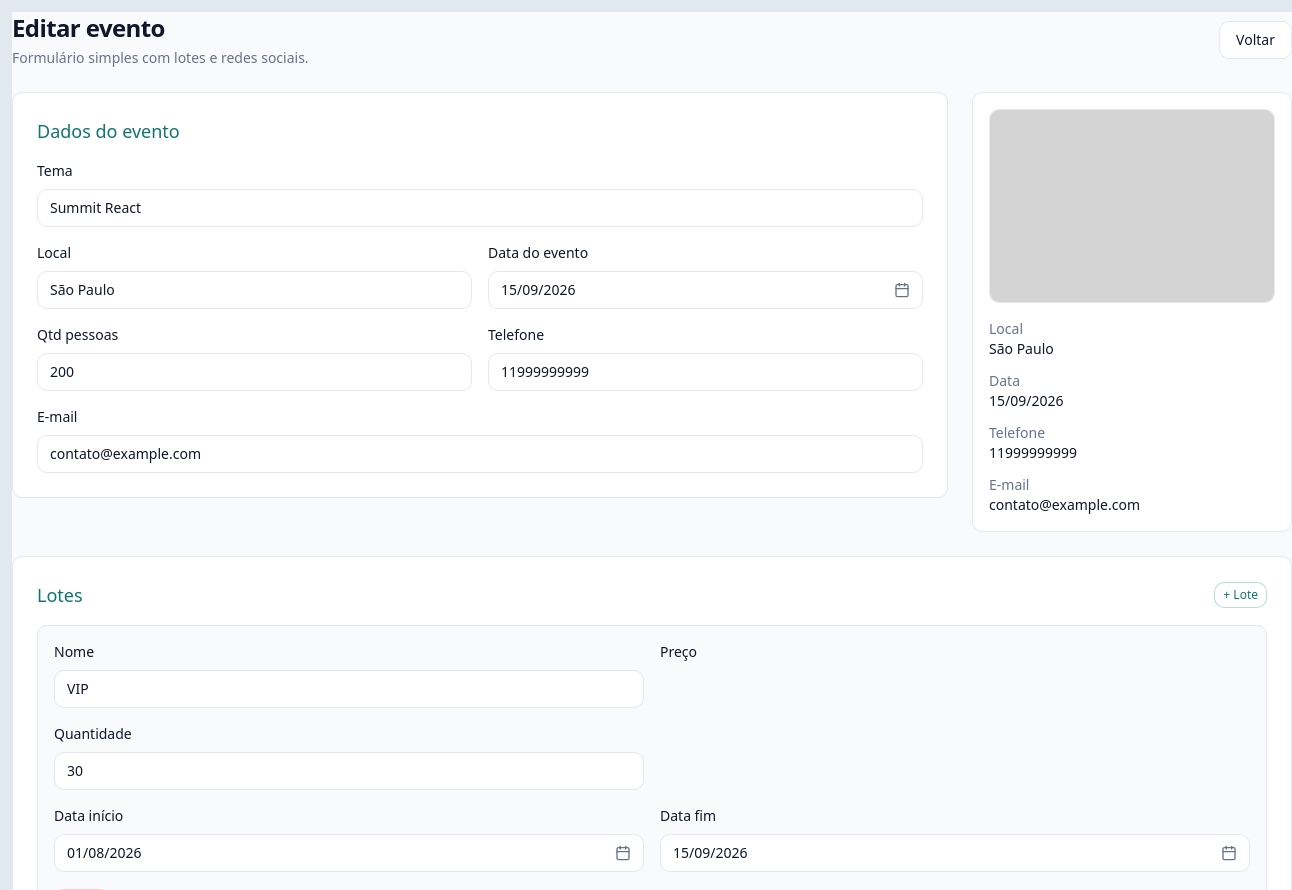
Test: EventoDetailPage › preenche formulário e preview no edit e continua espelhando mudanças
Check: the element with test id "evento-preview-card" shows "São Paulo", box [989,339,1054,358]
Check: the element with test id "evento-preview-card" shows "11999999999", box [989,443,1077,462]
Replace the text in the field labelled "Local" with "Campinas" at [254, 290], box [37,271,472,309]
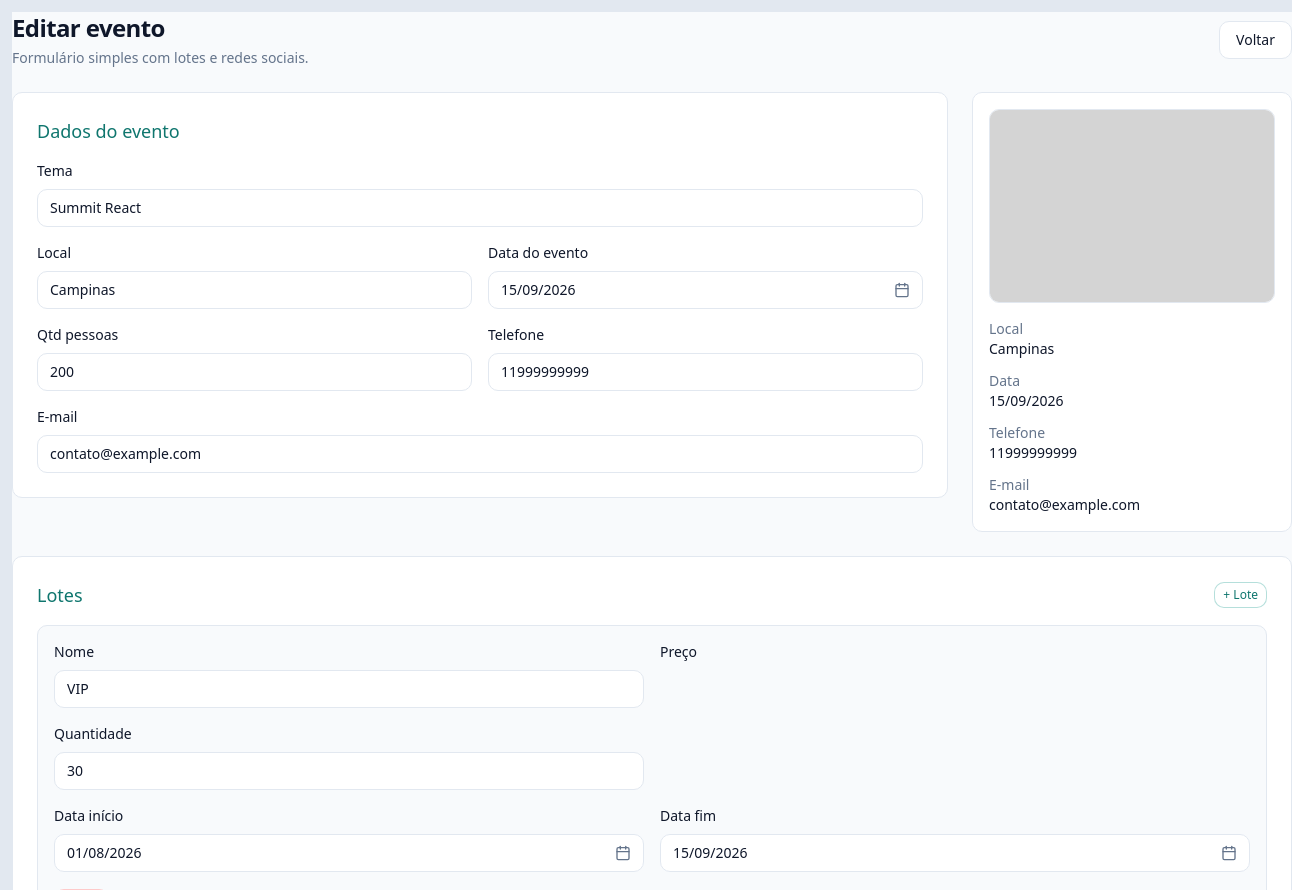
Check: the element with test id "evento-preview-card" shows "Campinas", box [989,339,1054,358]
